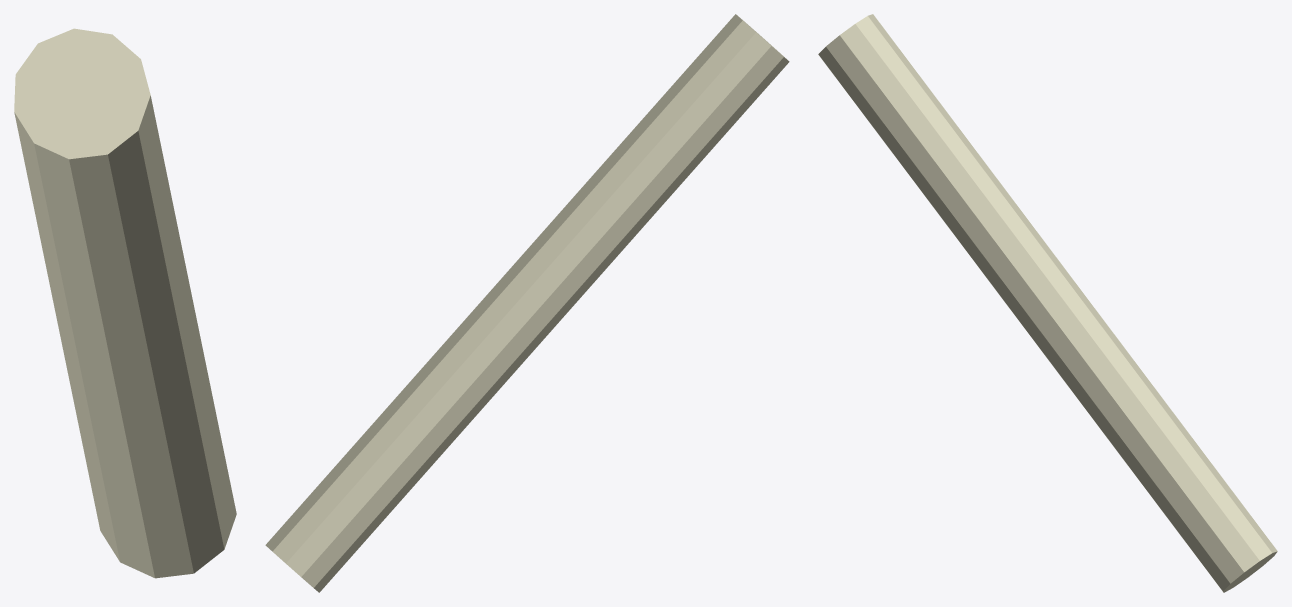
The model's file is tile_506.glb.
3 renders of one model, left to right at view 1: azimuth 30°, elevation 25°; view 2: azimuth 150°, elevation 25°; view 3: azimuth 270°, elevation 25°, orthographic. The views are drawn at different scales.
Size of the model in its own units: 1.24 by 1.84 by 1.65.
